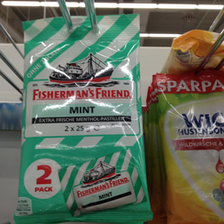candy: (22, 15, 148, 222), (152, 70, 224, 221)
